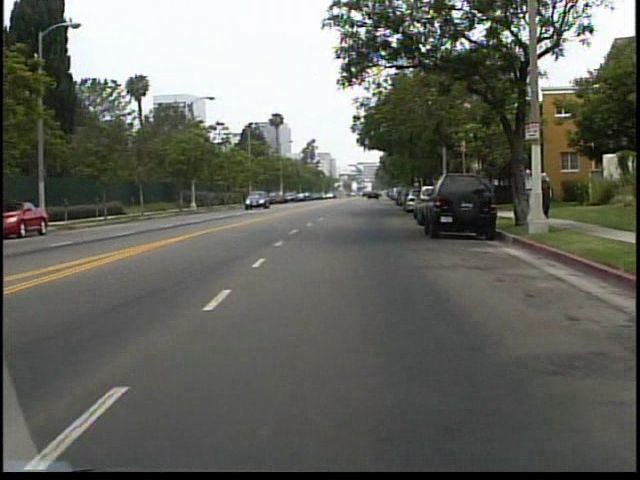person: (519, 164, 535, 216), (539, 167, 553, 218)
